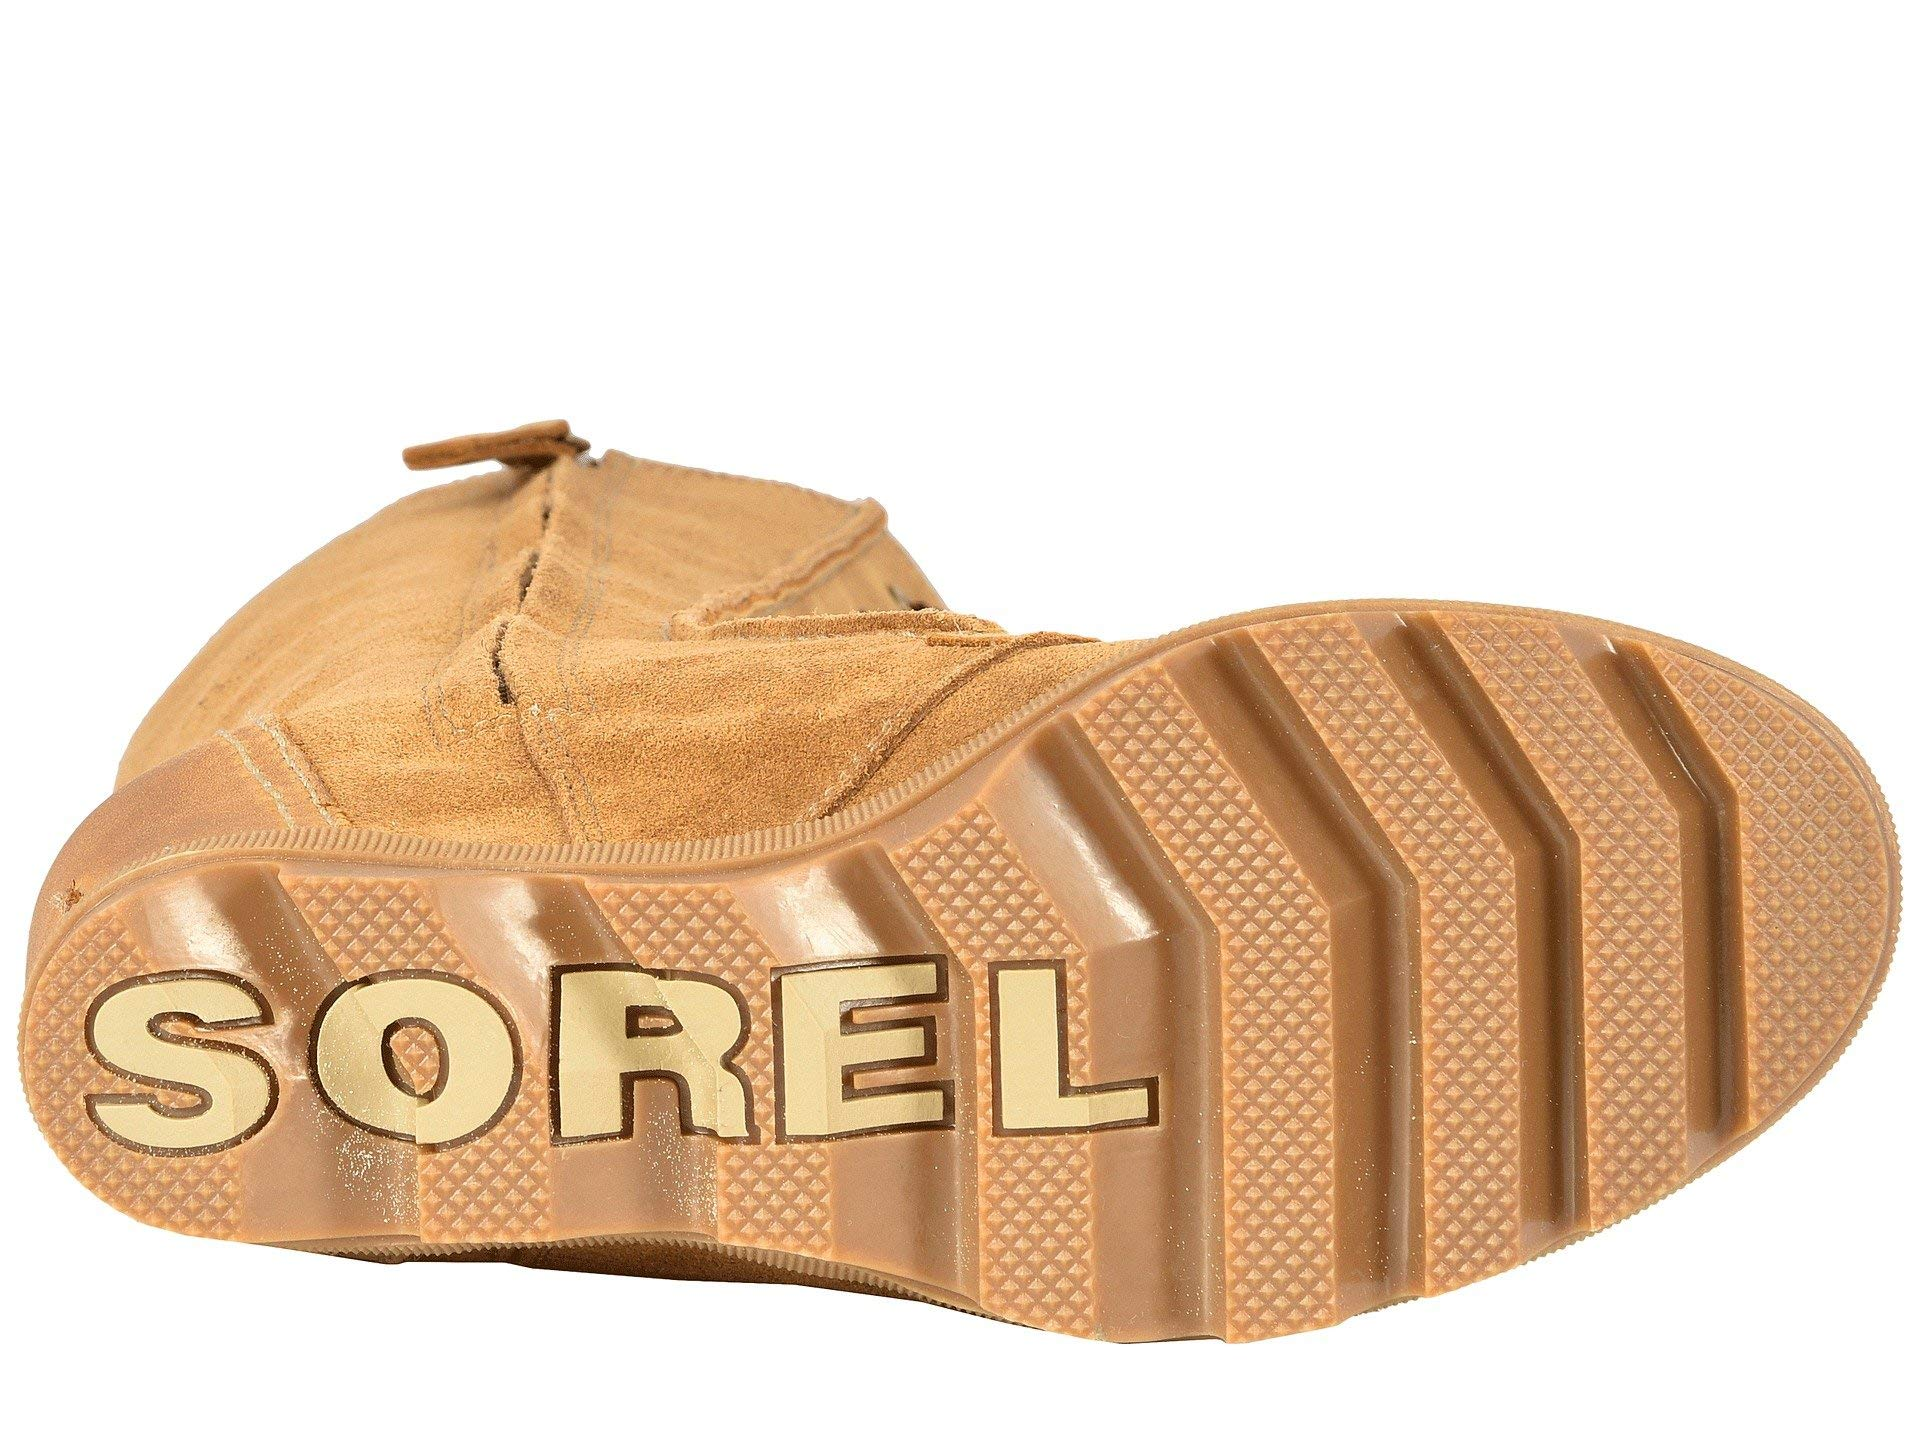chevron: (1296, 794, 1566, 1053), (1530, 715, 1776, 973)
circle: (295, 917, 522, 1184)
quad: (517, 935, 785, 1196), (1296, 794, 1566, 1053), (1530, 715, 1776, 973), (295, 917, 522, 1184), (70, 951, 299, 1181), (974, 948, 1187, 1160)
text: (517, 935, 785, 1196), (295, 917, 522, 1184), (70, 951, 299, 1181), (770, 906, 965, 1141), (974, 948, 1187, 1160)
